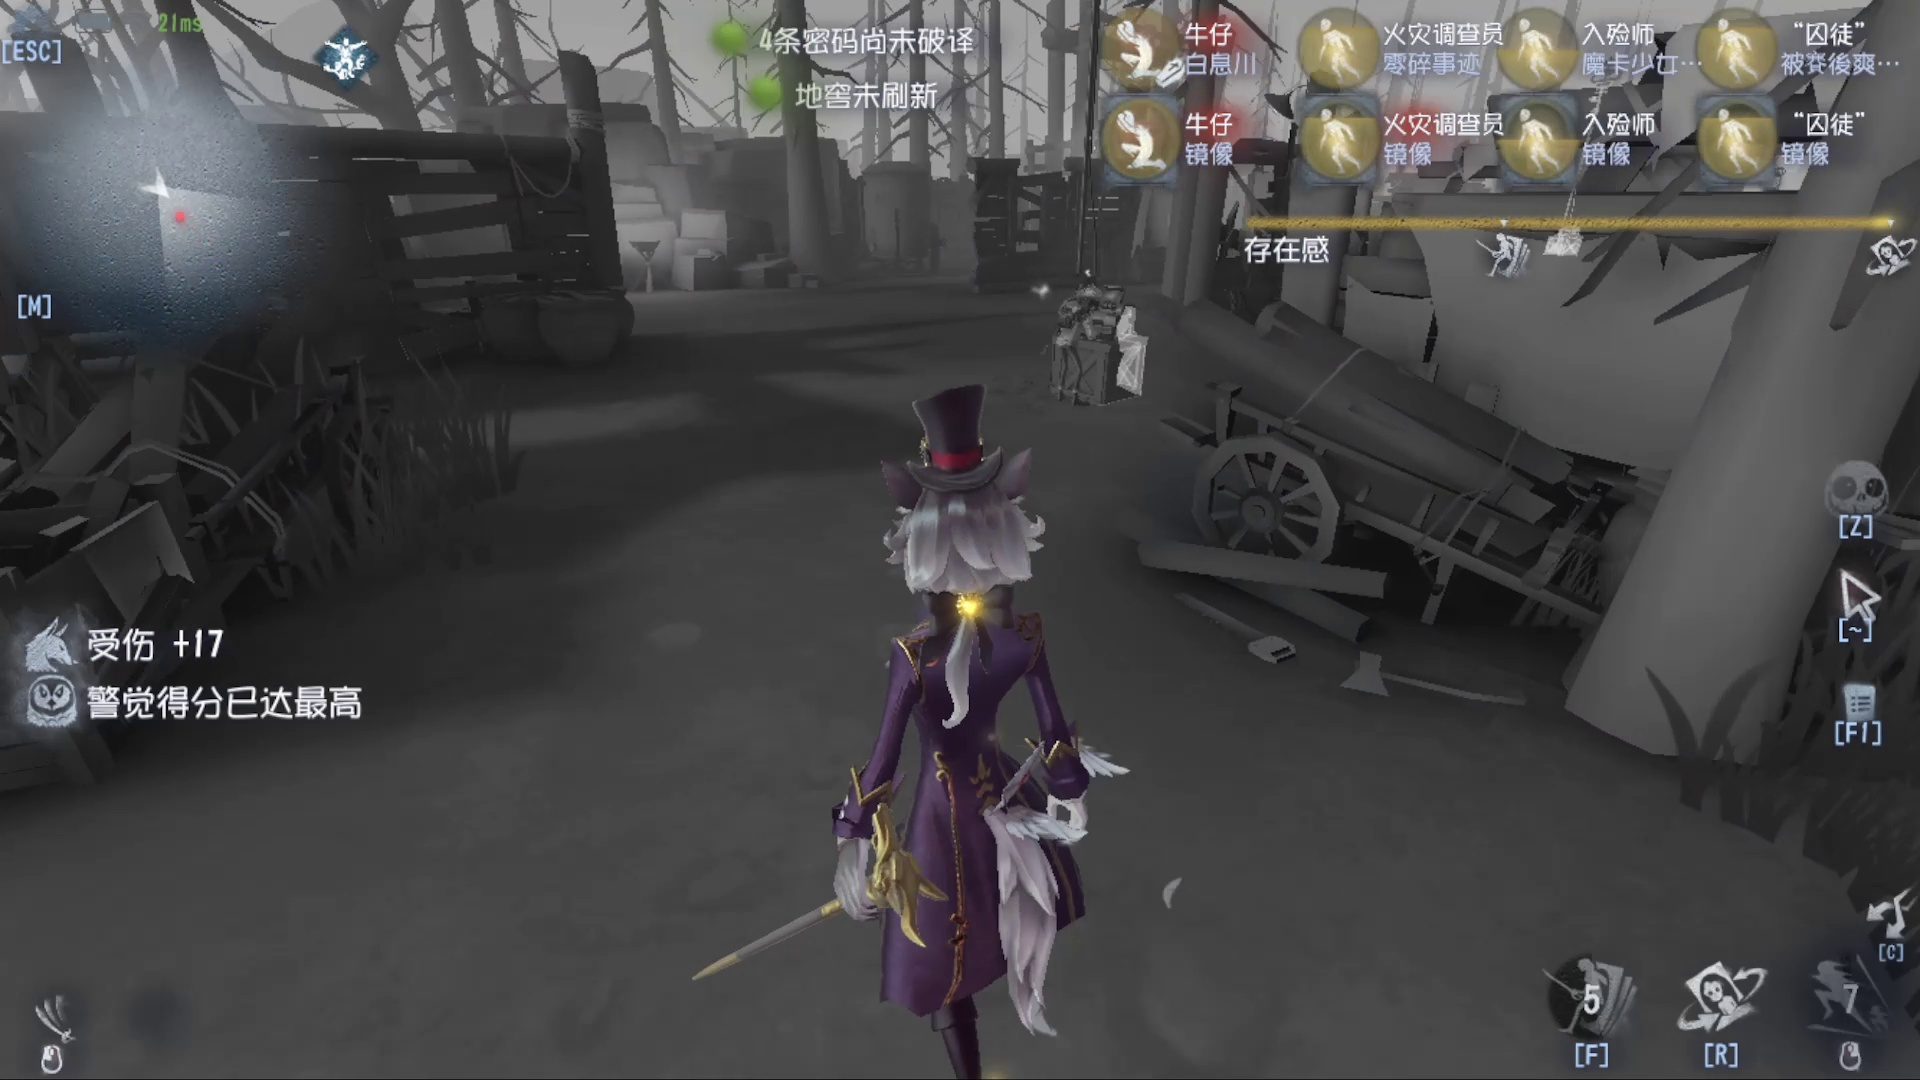密码机: (1015, 232, 1160, 411)
